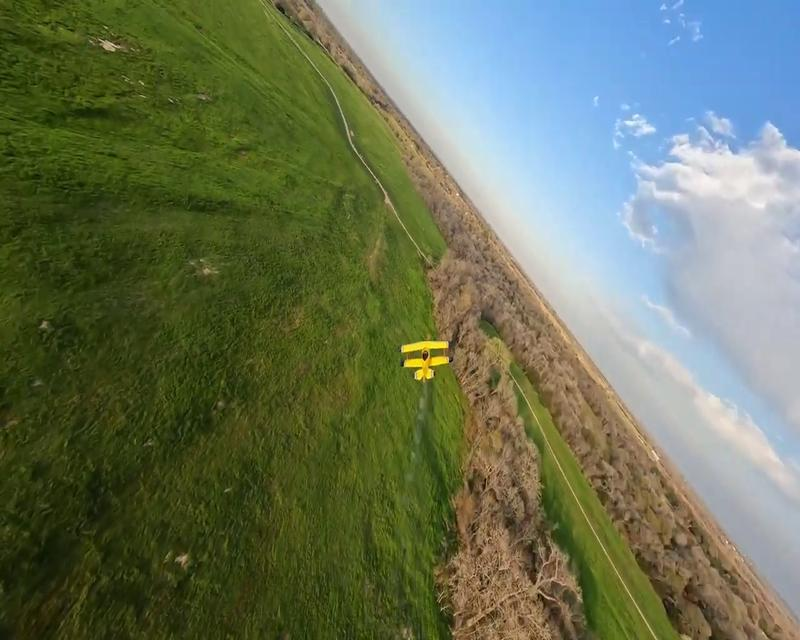UAV: (398, 338, 452, 382)
